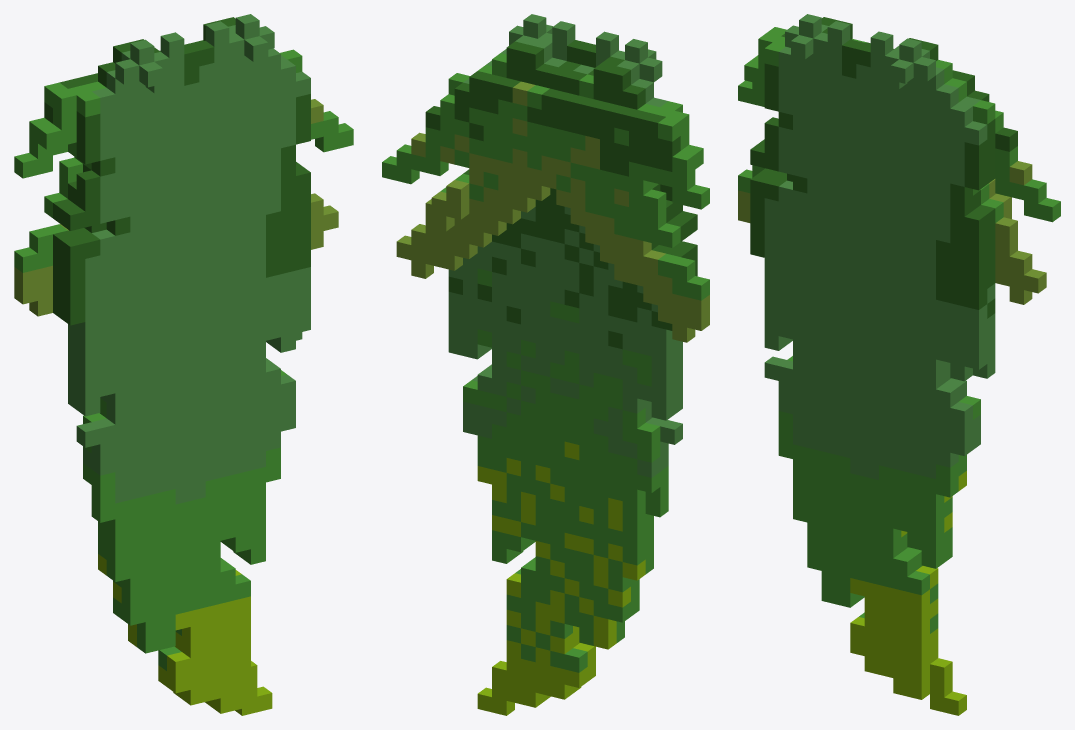
File: lorito_cloak.glb
3 views of the same model, side by side, from view 1: azimuth 30°, elevation 25°; view 2: azimuth 150°, elevation 25°; view 3: azimuth 330°, elevation 25° (orthographic). The views are drawn at different scales.
Visible parts, largest first — view 1: cape_lorito; view 2: cape_lorito; view 3: cape_lorito.
Boxes of the visible parts, x1,y1,x2,y2 form: cape_lorito: (14,14,353,715); cape_lorito: (382,14,709,715); cape_lorito: (738,14,1060,715).
Bounding box in the file's own units: 0.9459 × 1.93 × 0.258.
1 material, 1 textured.
